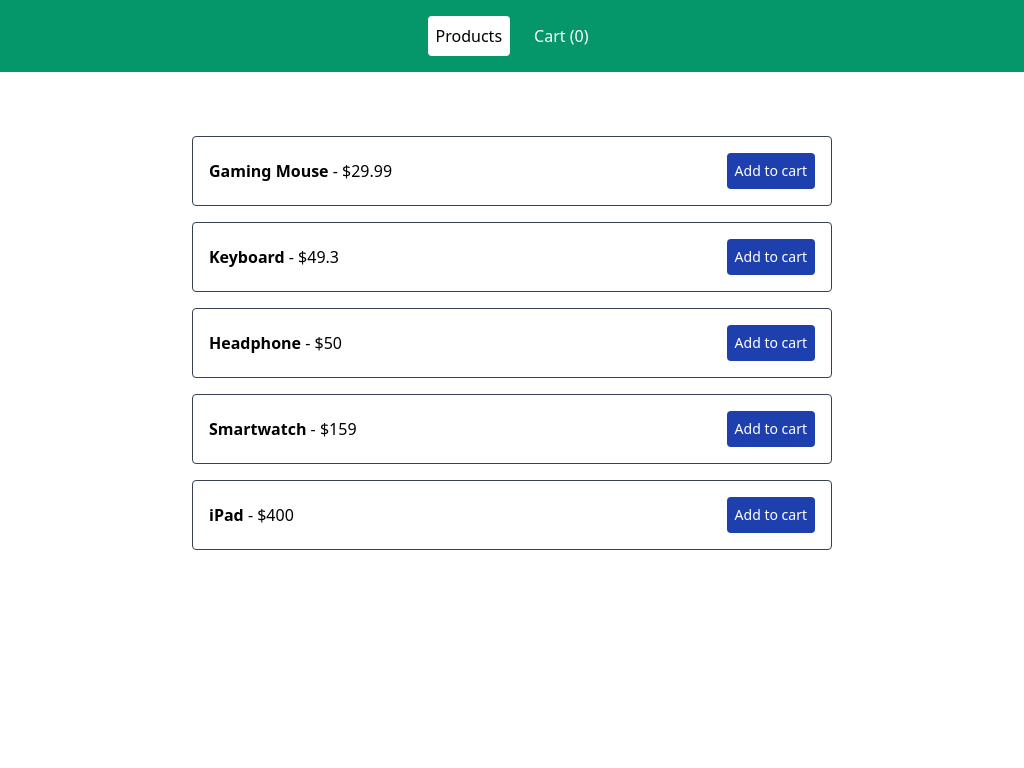
Shoppee Cart › add multiple products
This screenshot has width=1024, height=768.
Click the button "Add to cart" in the row of "- $29.99".
click(771, 171)  # box [727, 153, 815, 189]
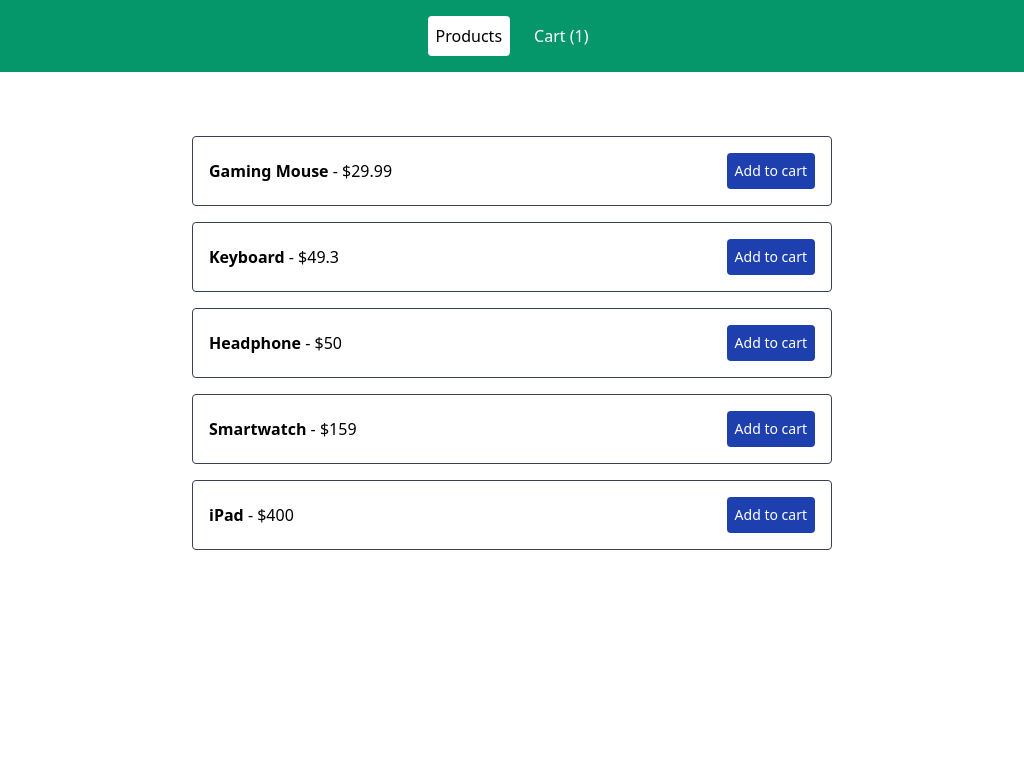
Result: the link "Cart (1)" is shown at [534, 25, 588, 47]
Click the button "Add to cart" in the row of "- $29.99".
click(771, 171)  # box [727, 153, 815, 189]
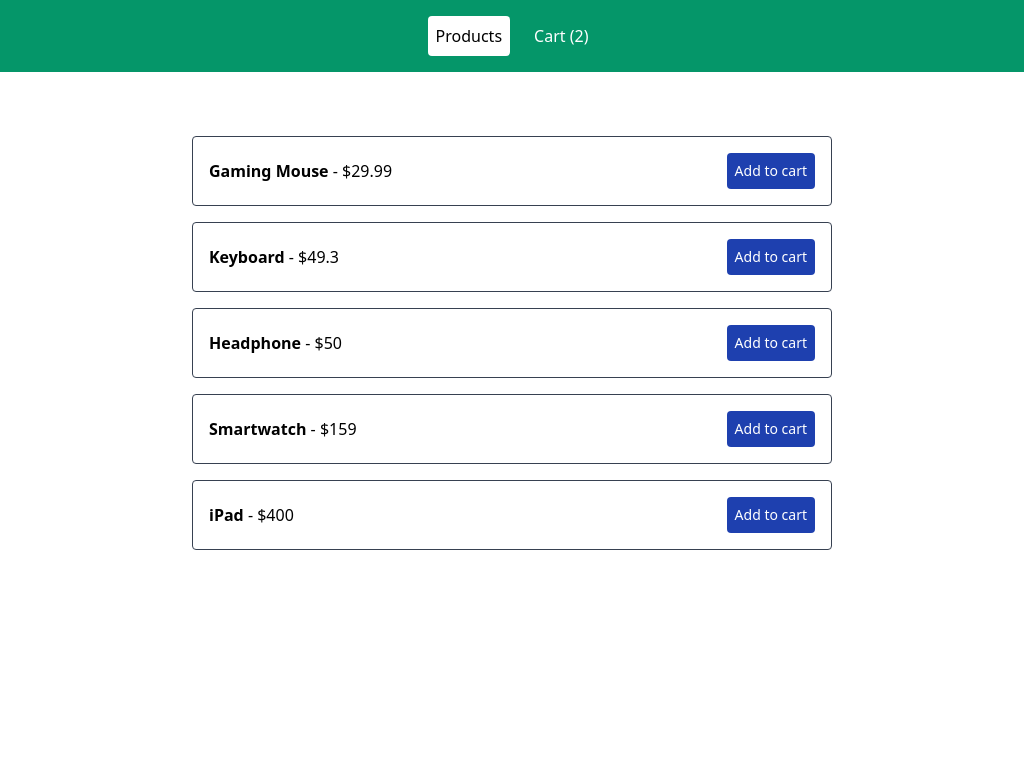
Expected: the link "Cart (2)" is shown, [534, 25, 588, 47]
Click the button "Add to cart" in the row of "- $400".
click(771, 515)  # box [727, 497, 815, 533]
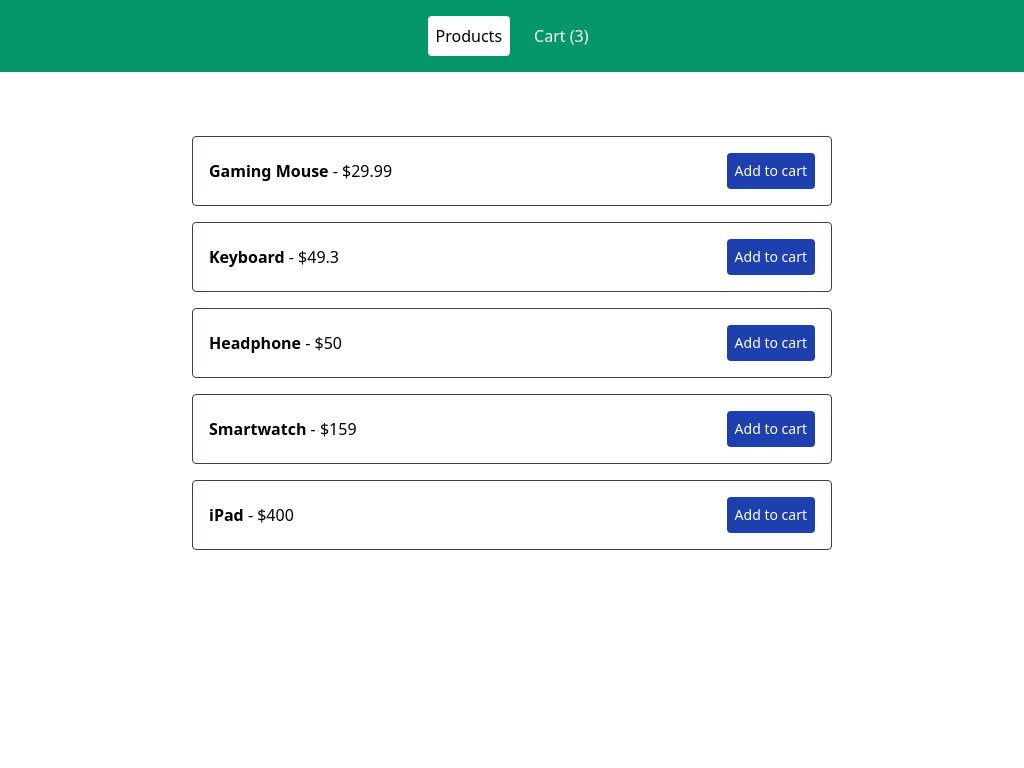
Result: the link "Cart (3)" is shown
Click the link with test id "nav-cart".
click(561, 36)  # box [534, 25, 588, 47]
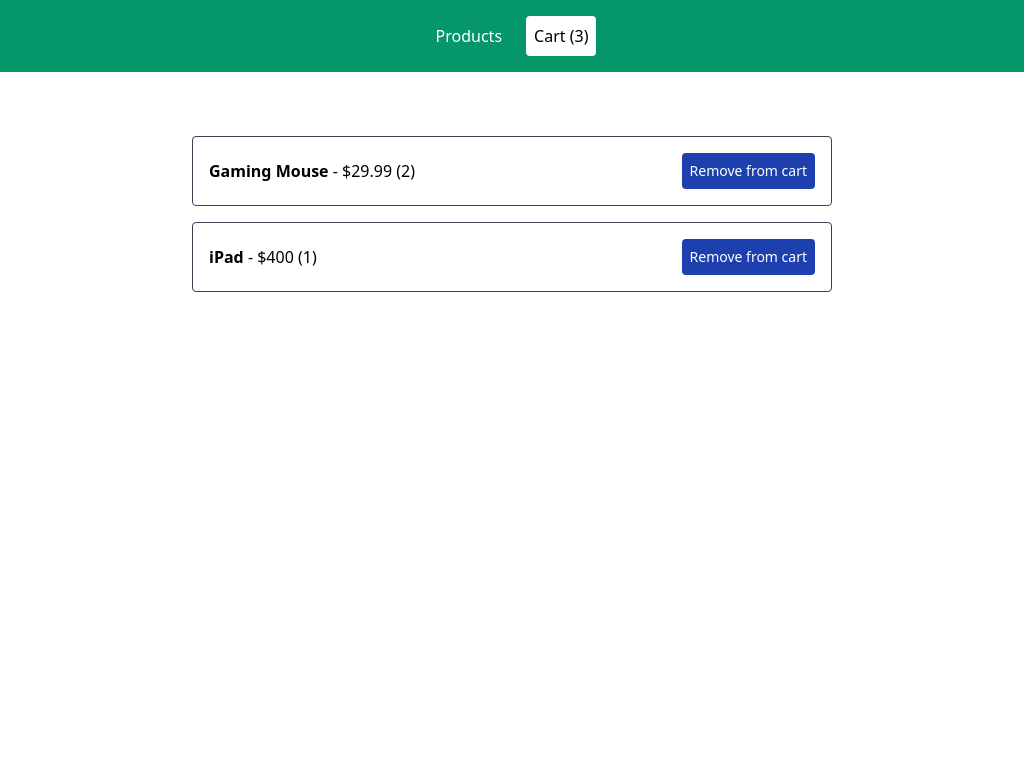
Result: the number of elements with test id "product-item" is 2 at [192, 136, 832, 206]; [192, 222, 832, 292]
